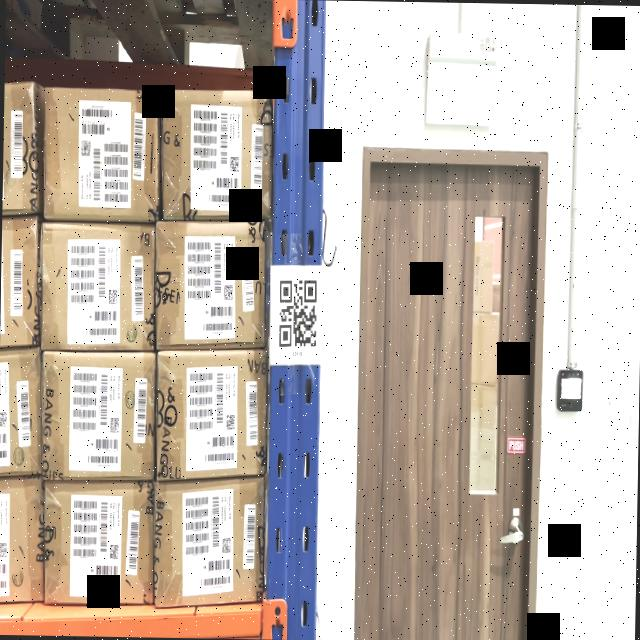box: (44, 90, 158, 216), (40, 227, 154, 348), (160, 92, 271, 215), (158, 354, 266, 474), (156, 223, 264, 340), (42, 358, 154, 470), (158, 481, 262, 601), (41, 486, 149, 598)
